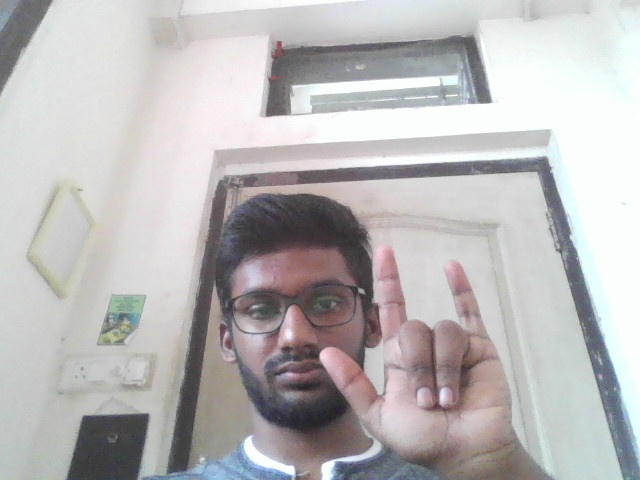I Love You: (320, 241, 538, 461)
